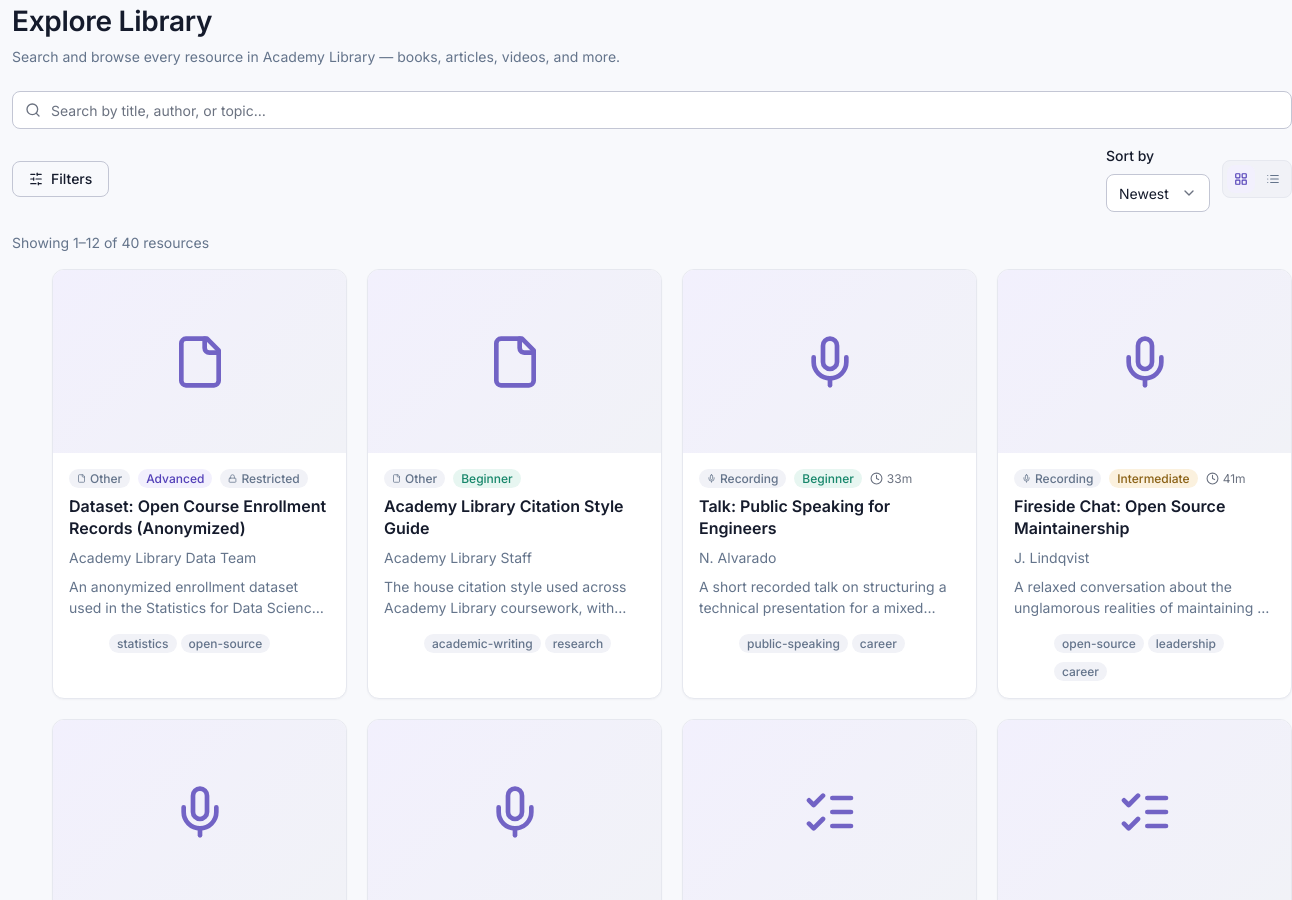
Scenario: LibraryPage › applies a resource-type filter from the Filters panel
Check: the text "Showing 1–12 of 40 resources" is shown, box [12,234,209,251]
Click the button "Filters": (61, 178) [12,160,109,196]
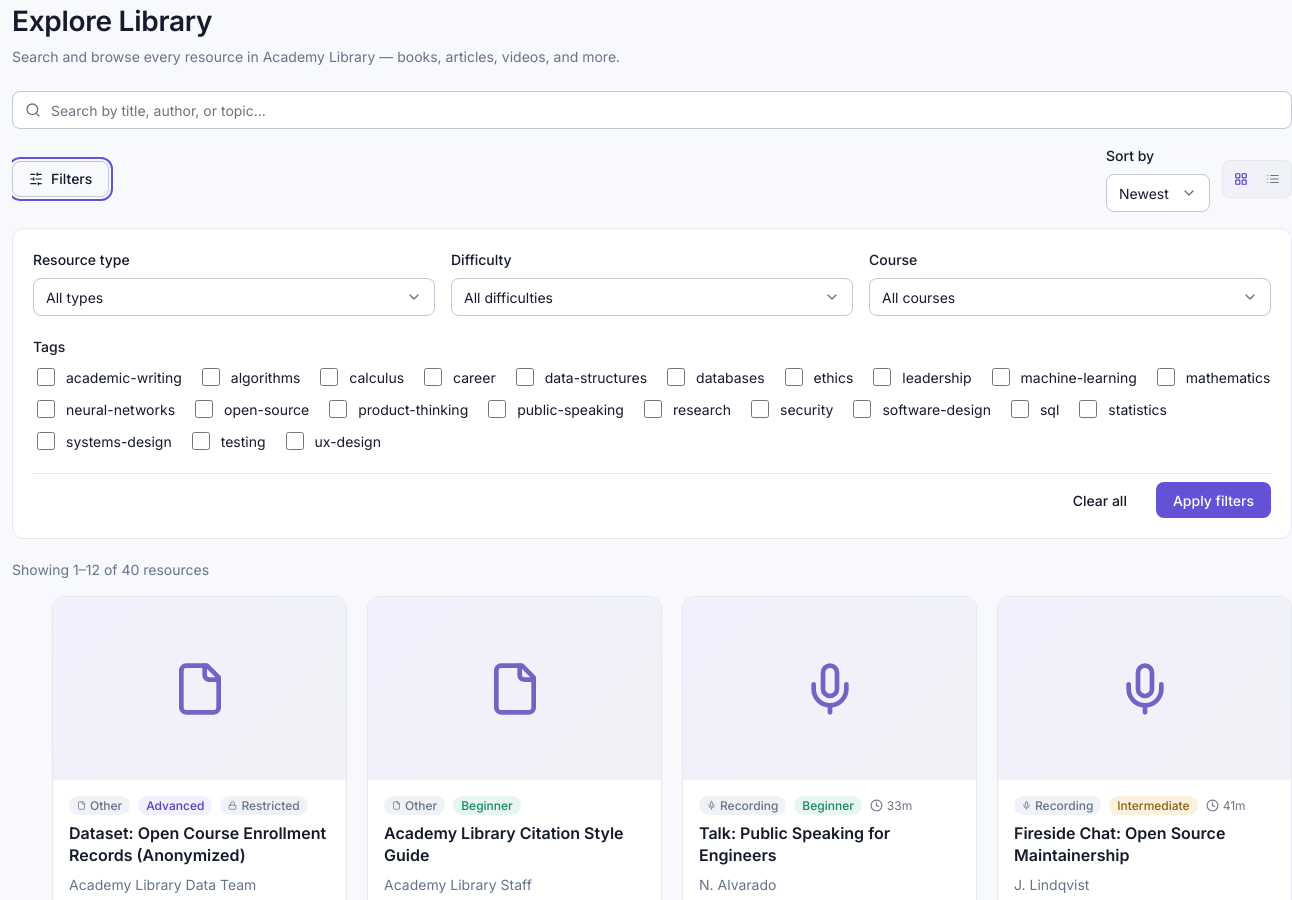
Select "Recording" in the dropdown labelled "Resource type": (234, 297) [34,279,434,315]
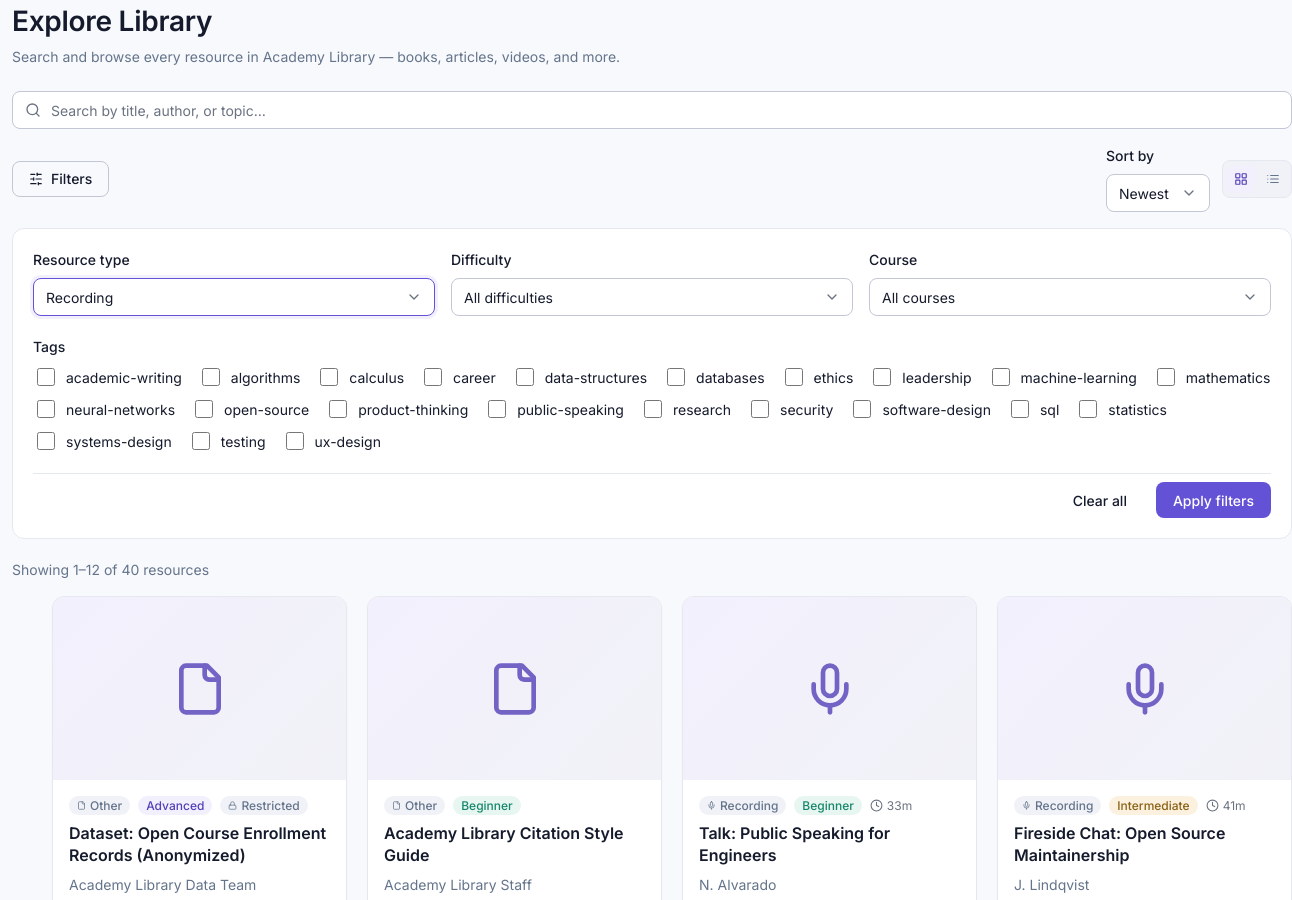
Click the button "Apply filters": (1213, 500) [1156,482,1271,518]
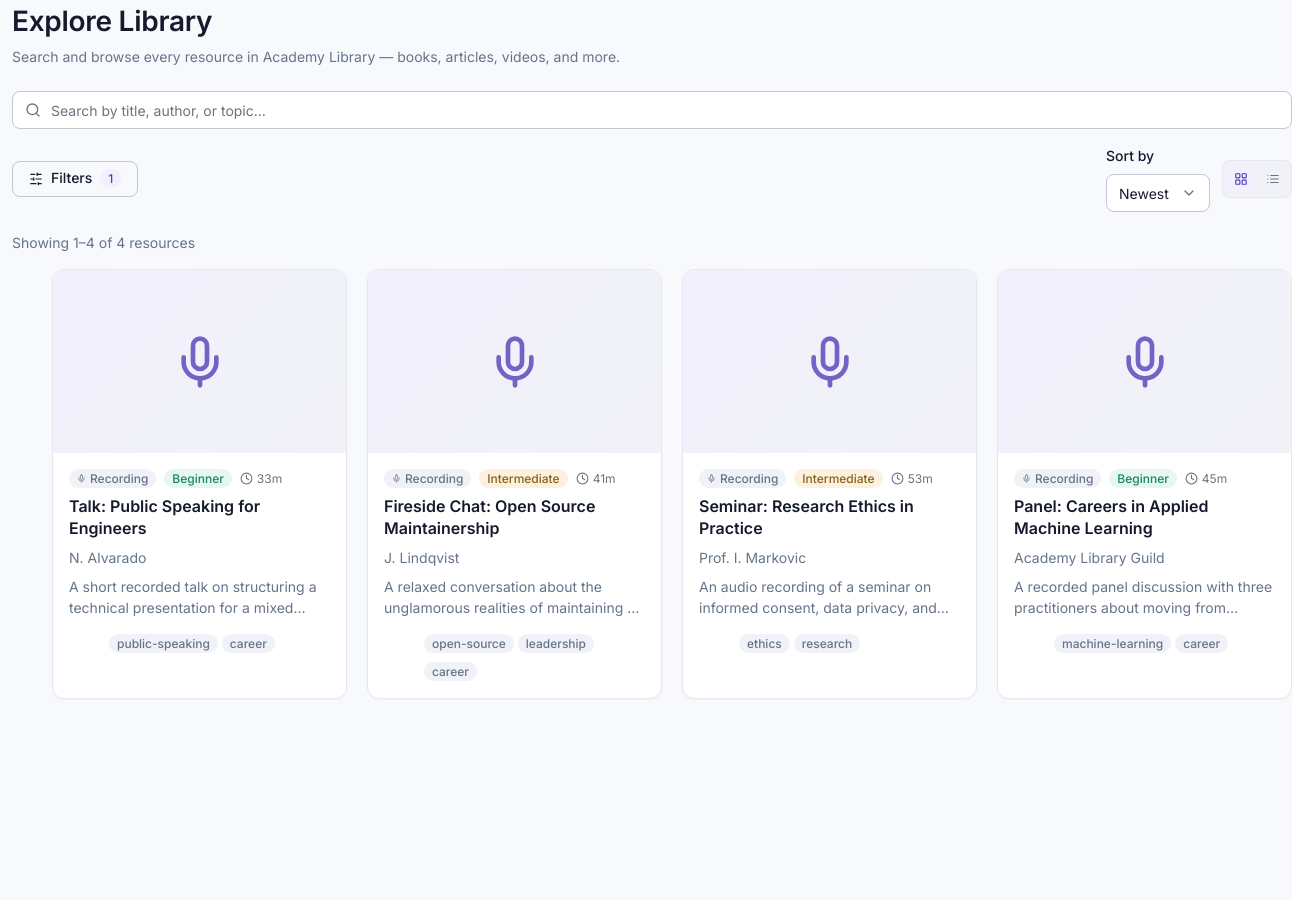
Check: the text "Showing 1–4 of 4 resources" is shown, box [12,234,195,251]
Check: the button "Filters 1" is shown, box [12,160,138,196]
